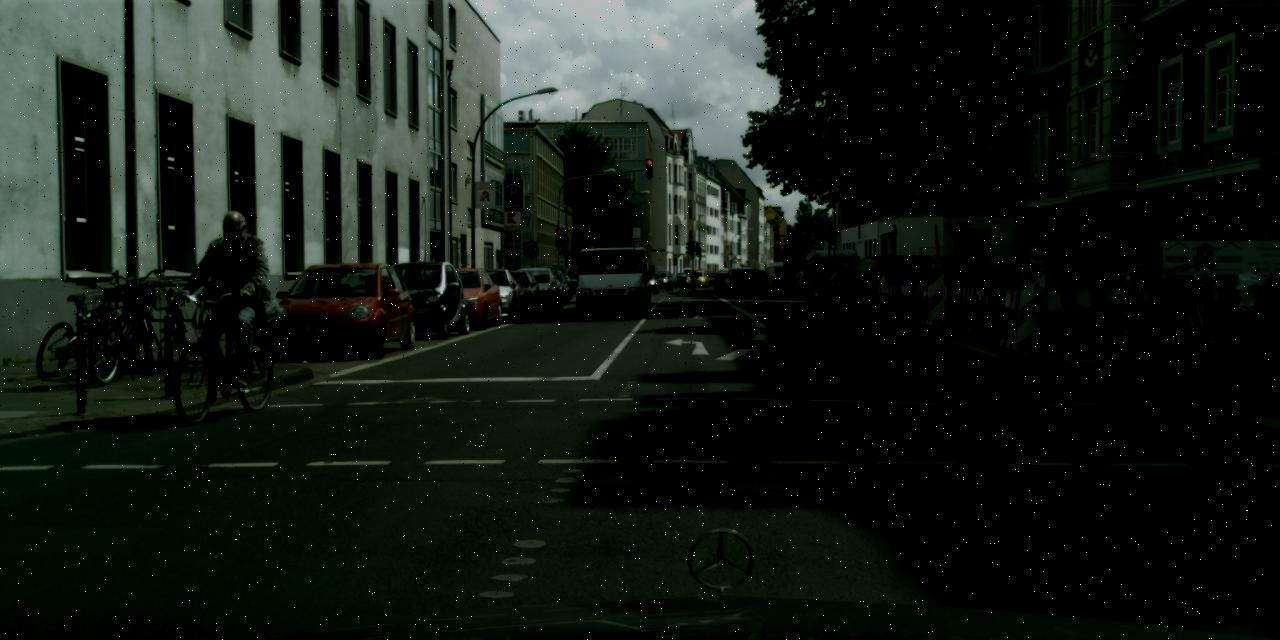ped: (194, 210, 267, 387), (805, 255, 823, 299), (424, 257, 440, 297)
